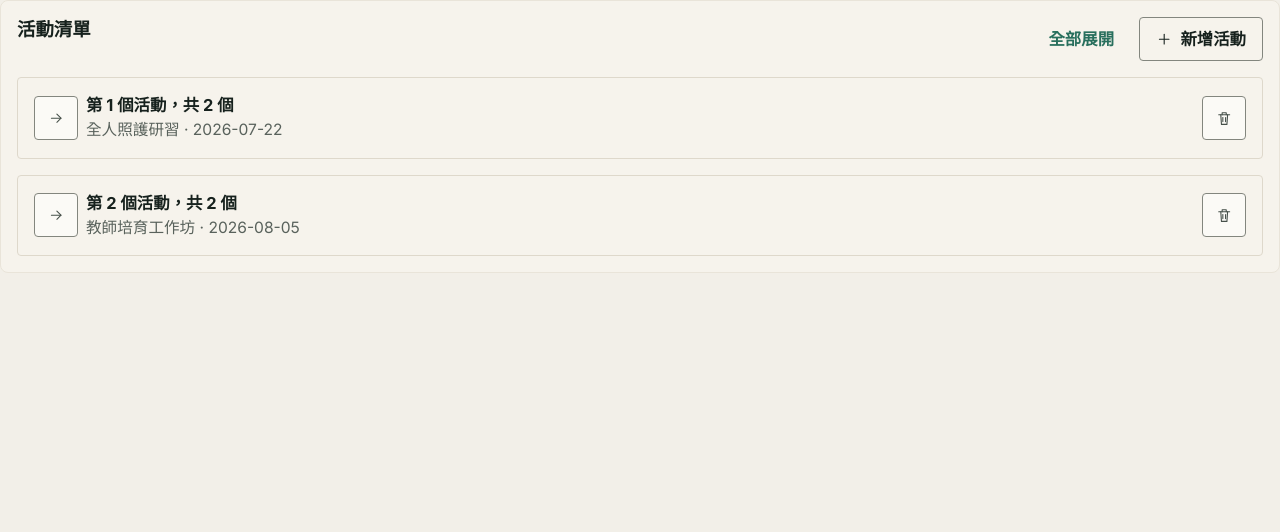
Test: editor collection density › keeps each typed character in an expanded item
Click the button named "展開第 1 個活動，共 2 個" at (56, 118), box [34, 96, 78, 140]
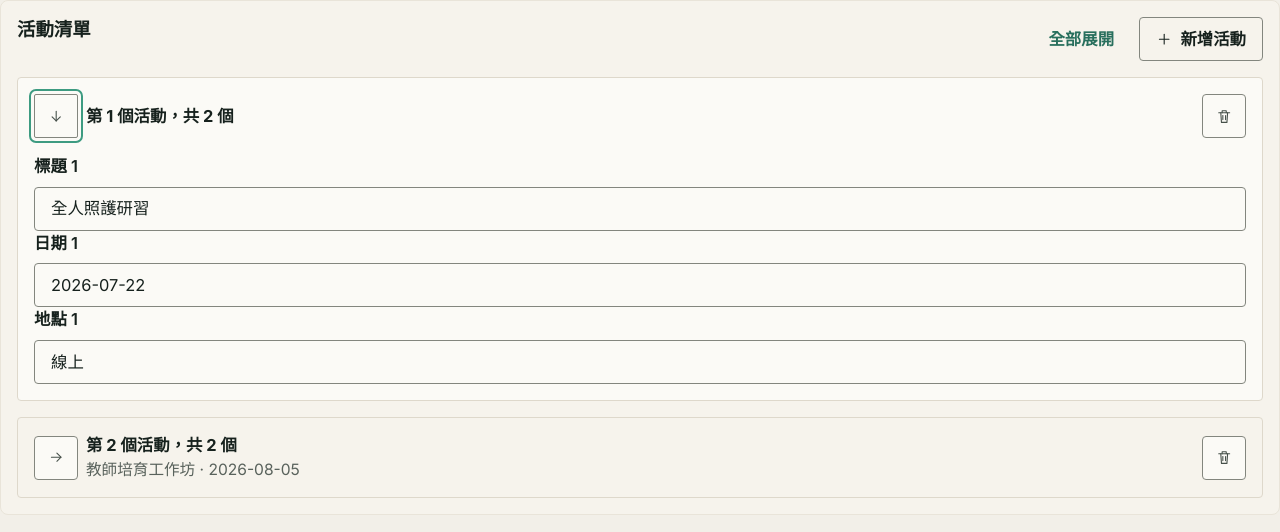
Type "（更新）" into the field labelled "標題 1" at (640, 209), box [34, 187, 1246, 231]
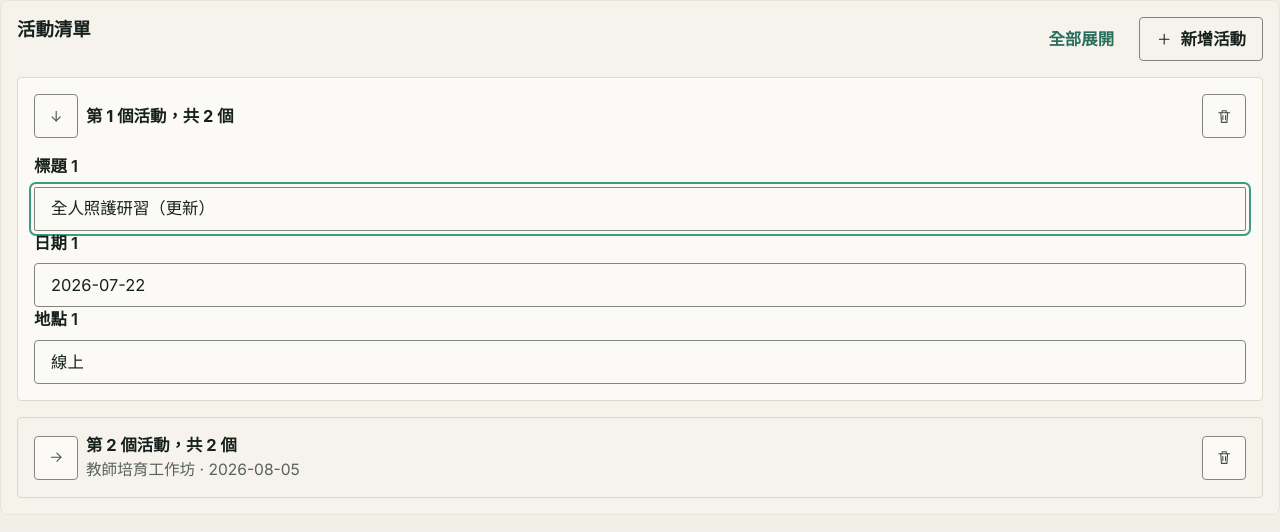
Expected: the field labelled "標題 1" holds "全人照護研習（更新）", [34, 187, 1246, 231]
